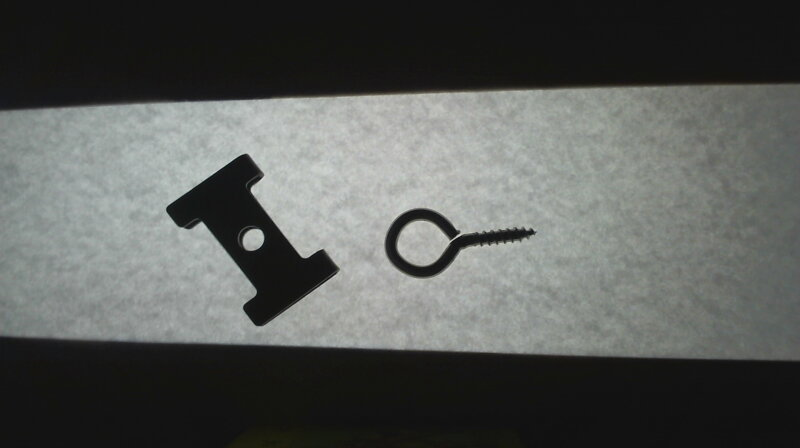O001: (380, 204, 545, 279)
O002: (160, 149, 342, 327)
